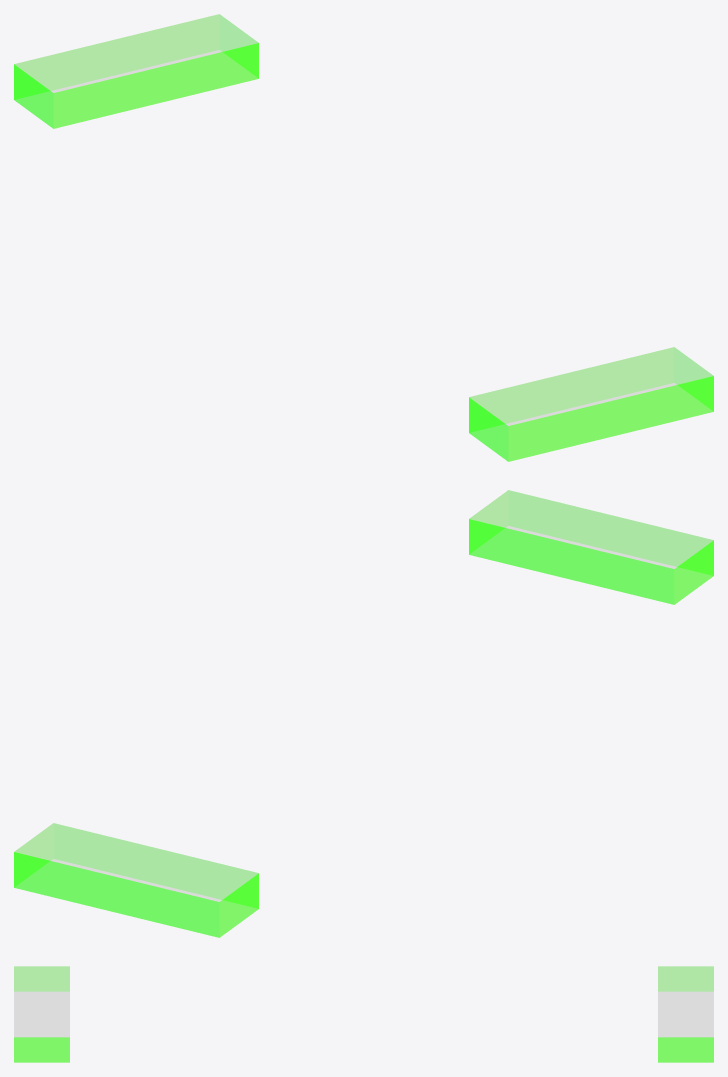
The model's file is (3)M XJump.fbx.
3 views of the same model, one above another, from view 1: azimuth 30°, elevation 25°; view 2: azimuth 150°, elevation 25°; view 3: azimuth 270°, elevation 25° (orthographic). The views are drawn at different scales.
Visible parts, largest first — view 1: Xjump.002, Xjump.003; view 2: Xjump.002, Xjump.003; view 3: Xjump.002, Xjump.003.
Boxes of the visible parts, x1,y1,x2,y2 form: Xjump.002: [469, 347, 713, 461]; Xjump.003: [14, 14, 258, 128]; Xjump.002: [469, 490, 713, 604]; Xjump.003: [14, 823, 258, 937]; Xjump.002: [14, 966, 69, 1062]; Xjump.003: [658, 966, 713, 1062].
Size of the model in its own units: 600 by 100 by 2500.
